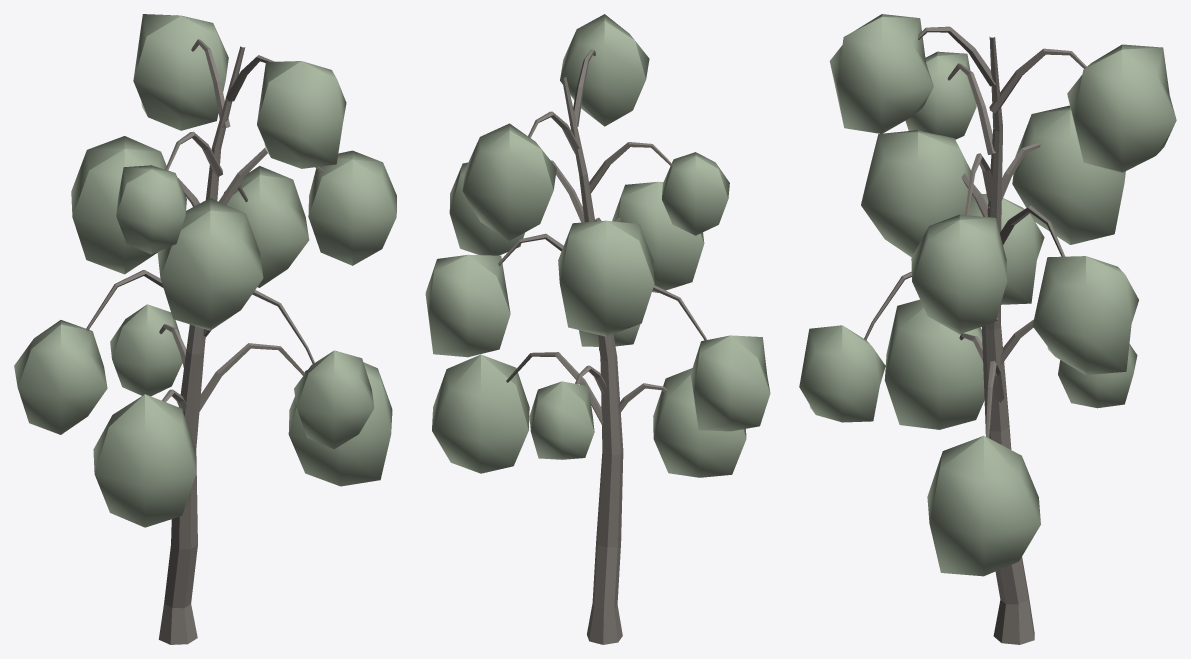
Rendered from willow_mature.glb.
3 renders of one model, left to right at view 1: azimuth 30°, elevation 25°; view 2: azimuth 150°, elevation 25°; view 3: azimuth 270°, elevation 25°, orthographic. The views are drawn at different scales.
Visible parts, largest first — view 1: willow-mature; view 2: willow-mature; view 3: willow-mature.
Boxes of the visible parts, x1=… form: willow-mature: x1=14, y1=14, x2=396, y2=644; willow-mature: x1=425, y1=14, x2=770, y2=644; willow-mature: x1=799, y1=14, x2=1176, y2=644.
Bounding box in the file's own units: 7.92 × 12.4 × 6.51.
